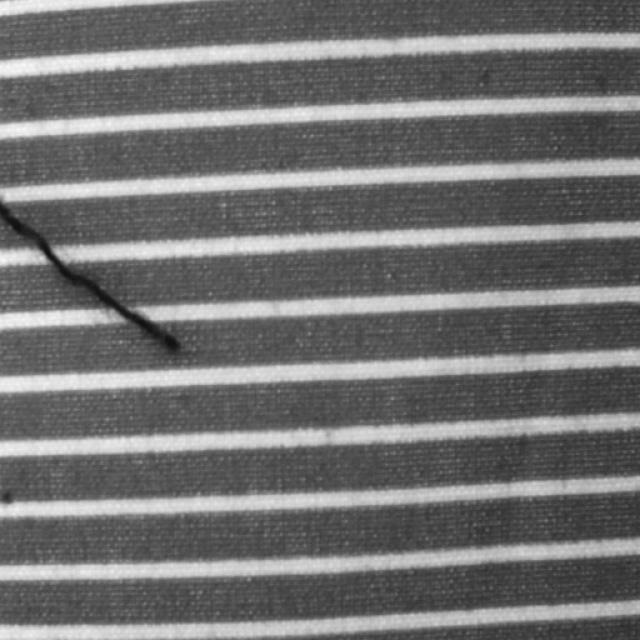Foreign-Body-Defect: (0, 200, 180, 352)
